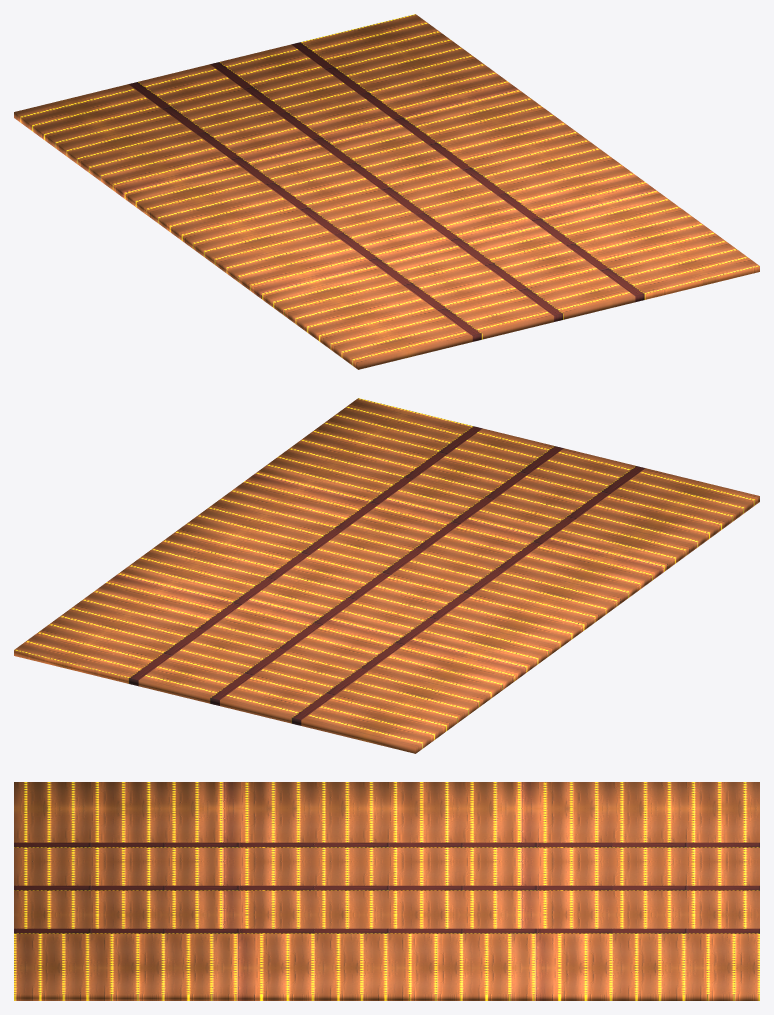
Rendered from RoomFloor_Art.fbx.
3 views of the same model, one above another, from view 1: azimuth 30°, elevation 25°; view 2: azimuth 150°, elevation 25°; view 3: azimuth 270°, elevation 25° (orthographic). The views are drawn at different scales.
Parts seen in each view (by area): view 1: RoomFloor_Art; view 2: RoomFloor_Art; view 3: RoomFloor_Art.
Boxes of the visible parts, x1,y1,x2,y2 form: RoomFloor_Art: (14, 14, 759, 369); RoomFloor_Art: (14, 398, 759, 753); RoomFloor_Art: (14, 782, 759, 1000).
Size of the model in its own units: 10.79 by 0.15 by 16.02.
